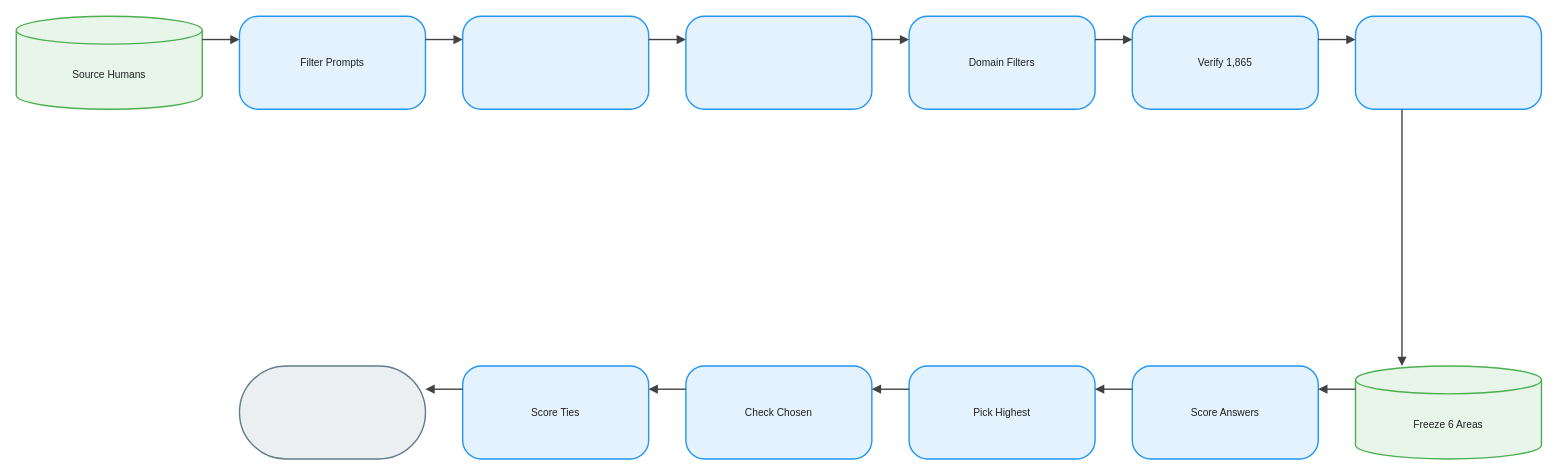
Image size: 1559x476. Some labels were removed from this diagram. The shapes that lost their labels are listed below. From the top down, each one's centre as x and y in pixels, then its label:
At (555,62): "Decontaminate".
At (778,62): "Make Answers".
At (1448,62): "Build 4-way".
At (332,412): "Mean Score".
